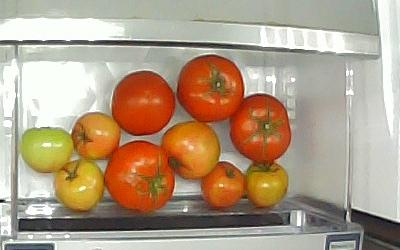tomato: (105, 140, 175, 213), (177, 55, 245, 123), (111, 70, 176, 138), (230, 93, 291, 164), (162, 121, 220, 181), (55, 158, 105, 212), (21, 126, 74, 175), (72, 111, 121, 161), (201, 161, 247, 211), (246, 161, 288, 208)
